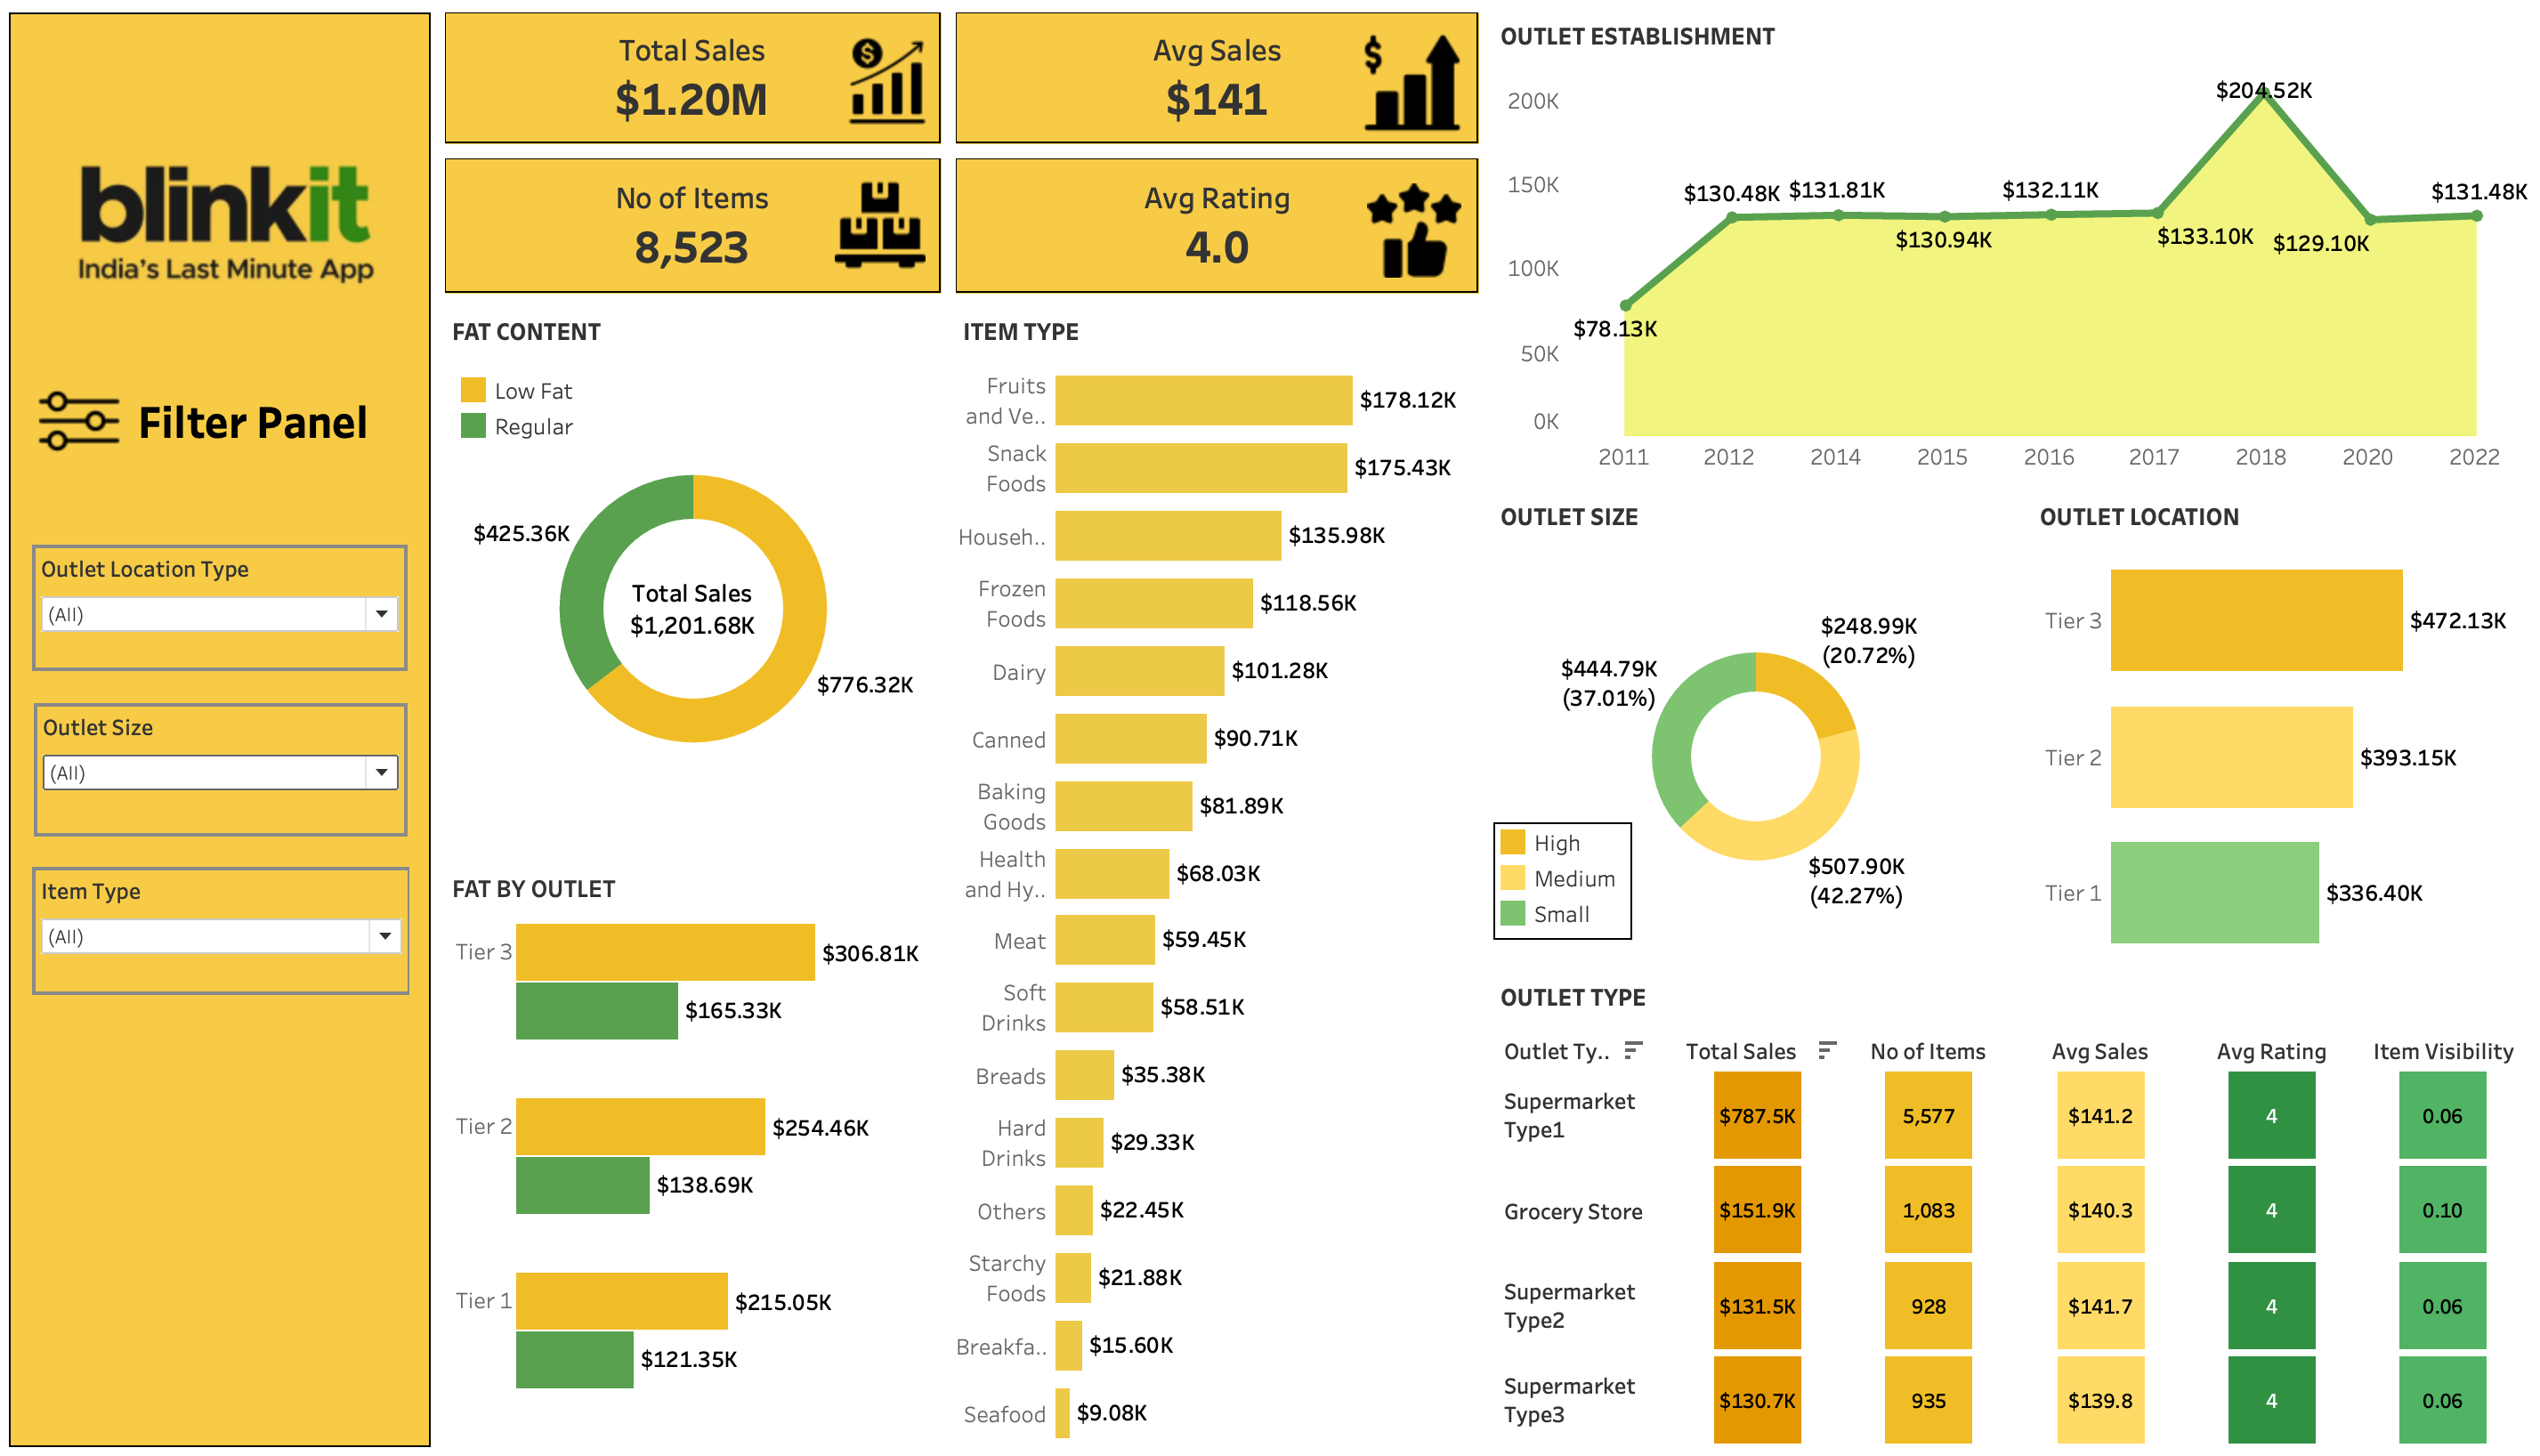

The page's visual inventory and layout, read from the dashboard file:
{"tool":"tableau","page":{"name":"Dashboard 1","canvas":[1000,1000],"units":"permille","ordinal":0},"visuals":[{"type":"blank","box":[6.5,12.2,169.9,975.5]},{"type":"worksheet","title":"Total Sales","mark":"Automatic","box":[176.4,12.2,198.8,98]},{"type":"worksheet","title":"Avg Sales","mark":"Automatic","box":[375.2,12.2,209.3,98]},{"type":"worksheet","title":"Outlet Establishment","mark":"Area","rows":["Sales","Sales"],"cols":["Outlet Establishment Year"],"box":[584.5,12.2,409,323.1]},{"type":"image","param":"Image/Avg Sales.png","box":[534.5,27.5,43,68.8]},{"type":"image","param":"Image/Sales.png","box":[334.1,29.1,34.1,64.2]},{"type":"image","param":"Image/blinkit.jpg","box":[11.4,30.6,163.6,255.3]},{"type":"worksheet","title":"Avg Rating ","mark":"Automatic","box":[375.2,110.2,209.3,100.7]},{"type":"worksheet","title":"No of items","mark":"Automatic","box":[176.4,110.3,198.8,100.7]},{"type":"image","param":"Image/Items.png","box":[330.9,123.9,35.7,68.8]},{"type":"image","param":"Image/rating (1).png","box":[537.7,130,38.9,64.2]},{"type":"worksheet","title":"Fat Content","mark":"Pie","rows":["Calculation_174655268306042881","Calculation_174655268306063363"],"box":[176.4,211,198.8,375.4]},{"type":"worksheet","title":"Item Type","mark":"Automatic","rows":["Item Type"],"cols":["Sales"],"box":[375.2,211,209.3,776.8]},{"type":"text","box":[56.8,243.1,110.3,94.8]},{"type":"image","param":"Image/4800805-200.png","box":[12.2,256.9,46.2,68.8]},{"type":"legend","title":"Fat Content","param":"[federated.07jgfl4036uctu0zve5vr1j482qu].[none:Item Fat Content:nk]","box":[182.5,258.4,92.5,67.3]},{"type":"worksheet","title":"Outlet Size","mark":"Pie","rows":["Calculation_174655268306042881","Calculation_174655268306063363"],"box":[584.5,335.4,210,324.2]},{"type":"worksheet","title":"Outlet Location","mark":"Automatic","rows":["Outlet Location Type"],"cols":["Sales"],"box":[794.5,335.4,199,324.2]},{"type":"filter","title":"Fat by Outlet","param":"[federated.07jgfl4036uctu0zve5vr1j482qu].[none:Outlet Location Type:nk]","box":[17,374.6,146.8,85.6]},{"type":"filter","title":"Fat by Outlet","param":"[federated.07jgfl4036uctu0zve5vr1j482qu].[none:Outlet Size:nk]","box":[17.8,481.7,146,90.2]},{"type":"legend","title":"Outlet Size","param":"[federated.07jgfl4036uctu0zve5vr1j482qu].[none:Outlet Size:nk]","box":[587.2,562.7,54.3,79.5]},{"type":"worksheet","title":"Fat by Outlet","mark":"Automatic","rows":["Outlet Location Type","Item Fat Content"],"cols":["vtnone"],"box":[176.4,586.4,198.8,401.4]},{"type":"filter","title":"Fat by Outlet","param":"[federated.07jgfl4036uctu0zve5vr1j482qu].[none:Item Type:nk]","box":[17,593.3,147.6,87.2]},{"type":"worksheet","title":"Outlet Type","mark":"Square","rows":["Outlet Type"],"box":[584.5,659.5,409,328.2]}]}

Visuals, with their boxes on the dashboard's canvas, which has no fixed pixel size, in thousandths of its width and height (x1, y1, x2, y2). These are canvas units, not pixel positions in the 2540x1456 screenshot, which may show the page scaled, cropped or inside an application window:
blank: box(6, 12, 176, 988)
"Total Sales" worksheet: box(176, 12, 375, 110)
"Avg Sales" worksheet: box(375, 12, 584, 110)
"Outlet Establishment" worksheet (Area marks): box(584, 12, 994, 335)
image: box(534, 28, 578, 96)
image: box(334, 29, 368, 93)
image: box(11, 31, 175, 286)
"Avg Rating " worksheet: box(375, 110, 584, 211)
"No of items" worksheet: box(176, 110, 375, 211)
image: box(331, 124, 367, 193)
image: box(538, 130, 577, 194)
"Fat Content" worksheet (Pie marks): box(176, 211, 375, 586)
"Item Type" worksheet: box(375, 211, 584, 988)
text: box(57, 243, 167, 338)
image: box(12, 257, 58, 326)
"Fat Content" legend: box(182, 258, 275, 326)
"Outlet Size" worksheet (Pie marks): box(584, 335, 794, 660)
"Outlet Location" worksheet: box(794, 335, 994, 660)
"Fat by Outlet" filter: box(17, 375, 164, 460)
"Fat by Outlet" filter: box(18, 482, 164, 572)
"Outlet Size" legend: box(587, 563, 642, 642)
"Fat by Outlet" worksheet: box(176, 586, 375, 988)
"Fat by Outlet" filter: box(17, 593, 165, 680)
"Outlet Type" worksheet (Square marks): box(584, 660, 994, 988)
